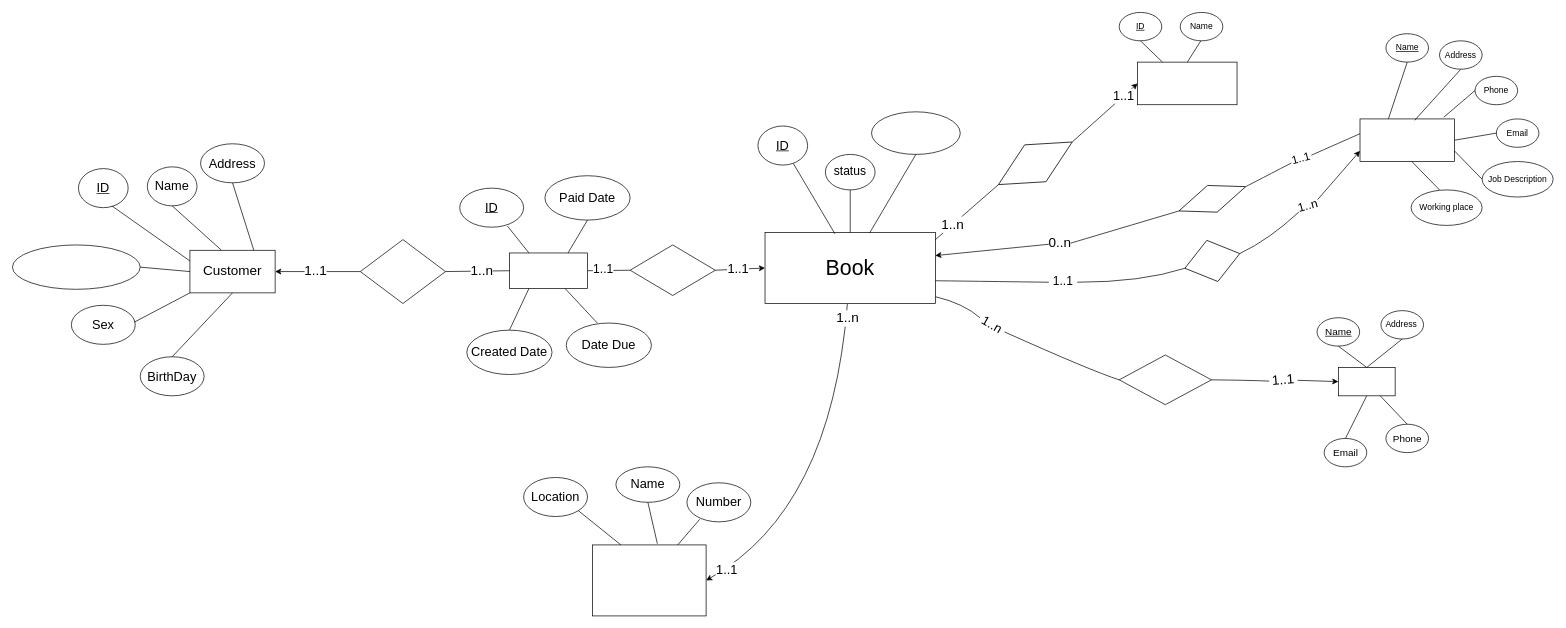
Image size: 1566x628. Some labels were removed from this diagram. The shapes that lost their labels are listed below. From the top down, each one's centre as x and y in pixels, then its label:
At (1187,83): "Book Title".
At (915,132): "Year of publication".
At (1406,140): "Author".
At (1035,163): "Belong to".
At (1212,198): "Write".
At (76,266): "Social security number".
At (403,271): "Request".
At (548,270): "Transaction".
At (672,270): "Borrow".
At (1212,260): "Writen by".
At (1164,379): "Published by".
At (1366,381): "Publisher".
At (649,580): "Category".
